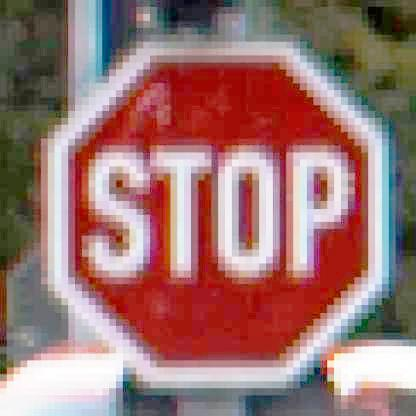Stop Sign: (50, 33, 400, 386)
